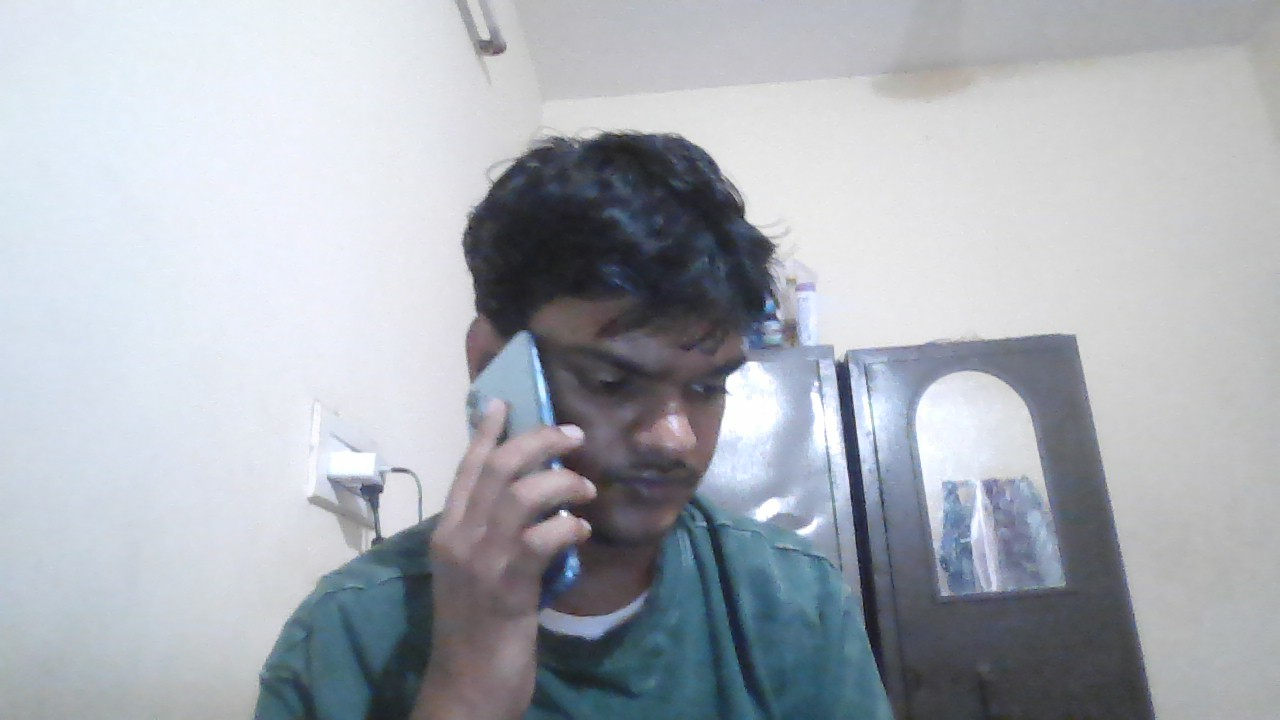phone: (442, 322, 553, 430)
